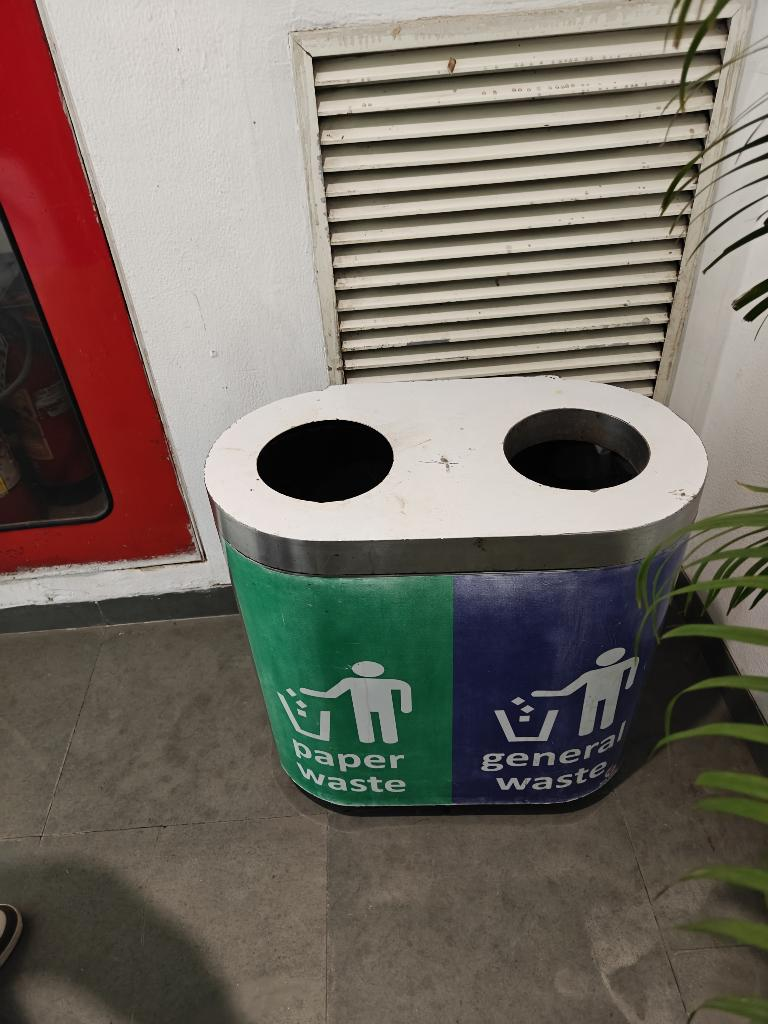dustbin: (180, 359, 726, 828)
